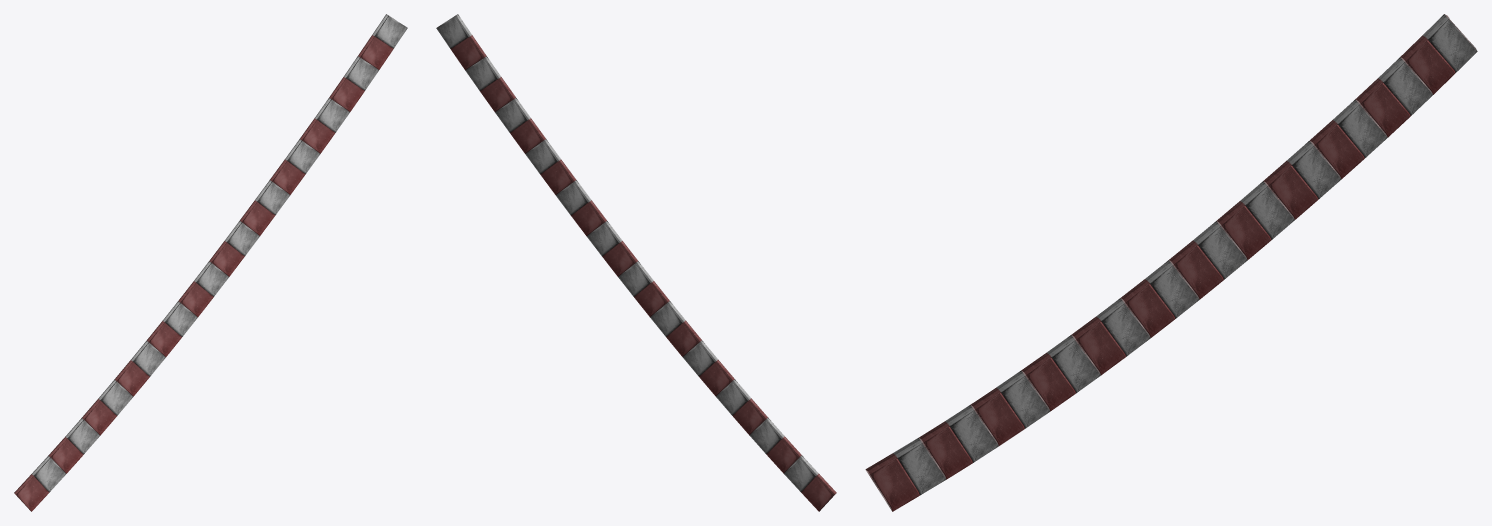
File: _1KERB_01_12_Scene.239.obj
3 renders of one model, left to right at view 1: azimuth 30°, elevation 25°; view 2: azimuth 150°, elevation 25°; view 3: azimuth 330°, elevation 25°, orthographic. The views are drawn at different scales.
Parts seen in each view (by area): view 1: _1KERB_01_12_Scene.239; view 2: _1KERB_01_12_Scene.239; view 3: _1KERB_01_12_Scene.239.
Boxes of the visible parts, x1,y1,x2,y2 form: _1KERB_01_12_Scene.239: (14, 14, 407, 511); _1KERB_01_12_Scene.239: (436, 14, 836, 511); _1KERB_01_12_Scene.239: (865, 14, 1477, 511).
Size of the model in its own units: 17.97 by 17.75 by 0.2211.
